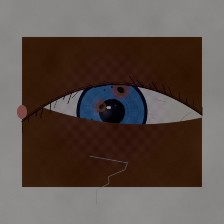foreign_body_visible: (102, 75, 140, 105)
